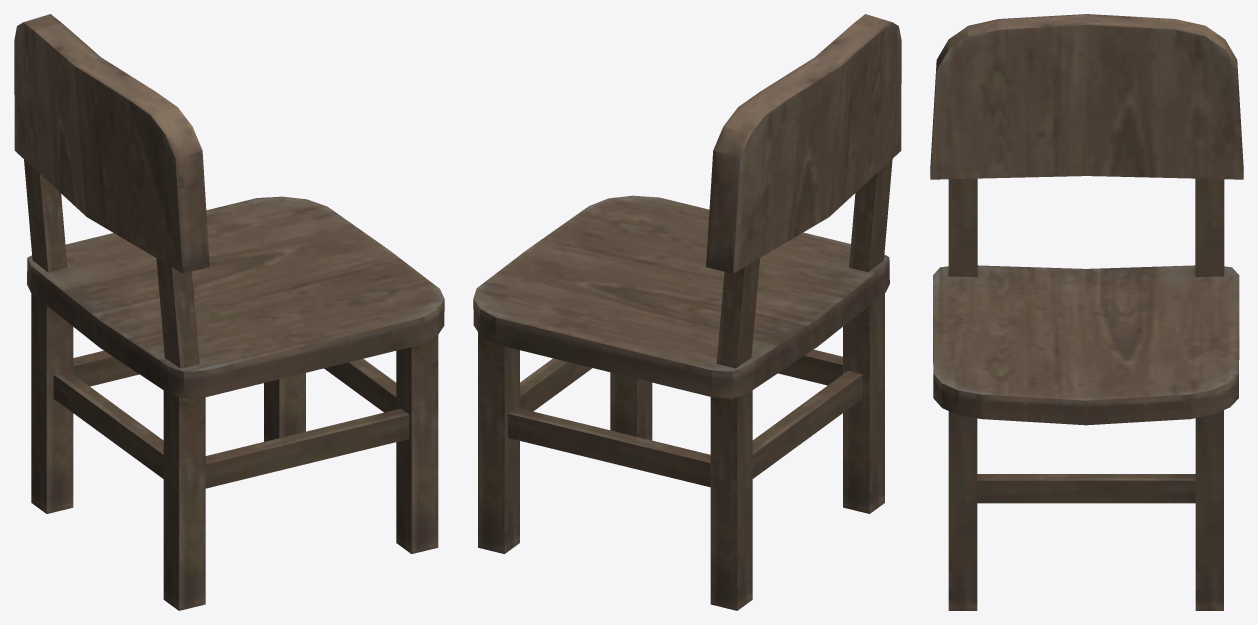
File: bg_lut_lucastle_smallchair03_sm_artree.FBX
3 renders of one model, left to right at view 1: azimuth 30°, elevation 25°; view 2: azimuth 150°, elevation 25°; view 3: azimuth 270°, elevation 25°, orthographic. The views are drawn at different scales.
Parts seen in each view (by area): view 1: bg_lut_lucastle_smallchair03_sm_artree; view 2: bg_lut_lucastle_smallchair03_sm_artree; view 3: bg_lut_lucastle_smallchair03_sm_artree.
Part boxes in pixels (x1=…): bg_lut_lucastle_smallchair03_sm_artree: x1=14, y1=14, x2=444, y2=610; bg_lut_lucastle_smallchair03_sm_artree: x1=473, y1=14, x2=901, y2=610; bg_lut_lucastle_smallchair03_sm_artree: x1=930, y1=14, x2=1243, y2=610.
Size of the model in its own units: 49.8 by 75.63 by 46.03.
